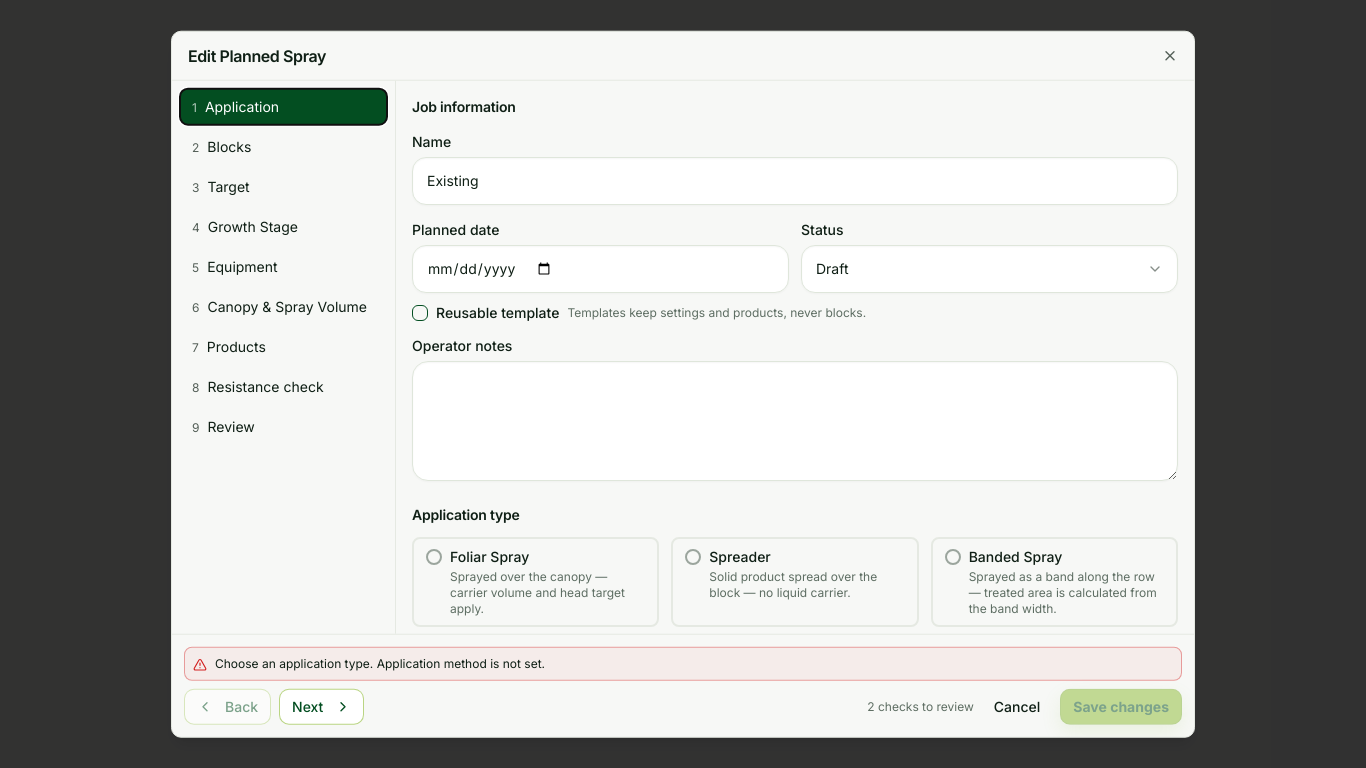
it: Stage 3B wizard shell › renders linked spray records on Review for an existing job
Check: the field showing "Existing" is shown, box [412,157,1178,205]
Click the button "9Review" at (284, 427), box [180,409,387,445]
(page scrolled)
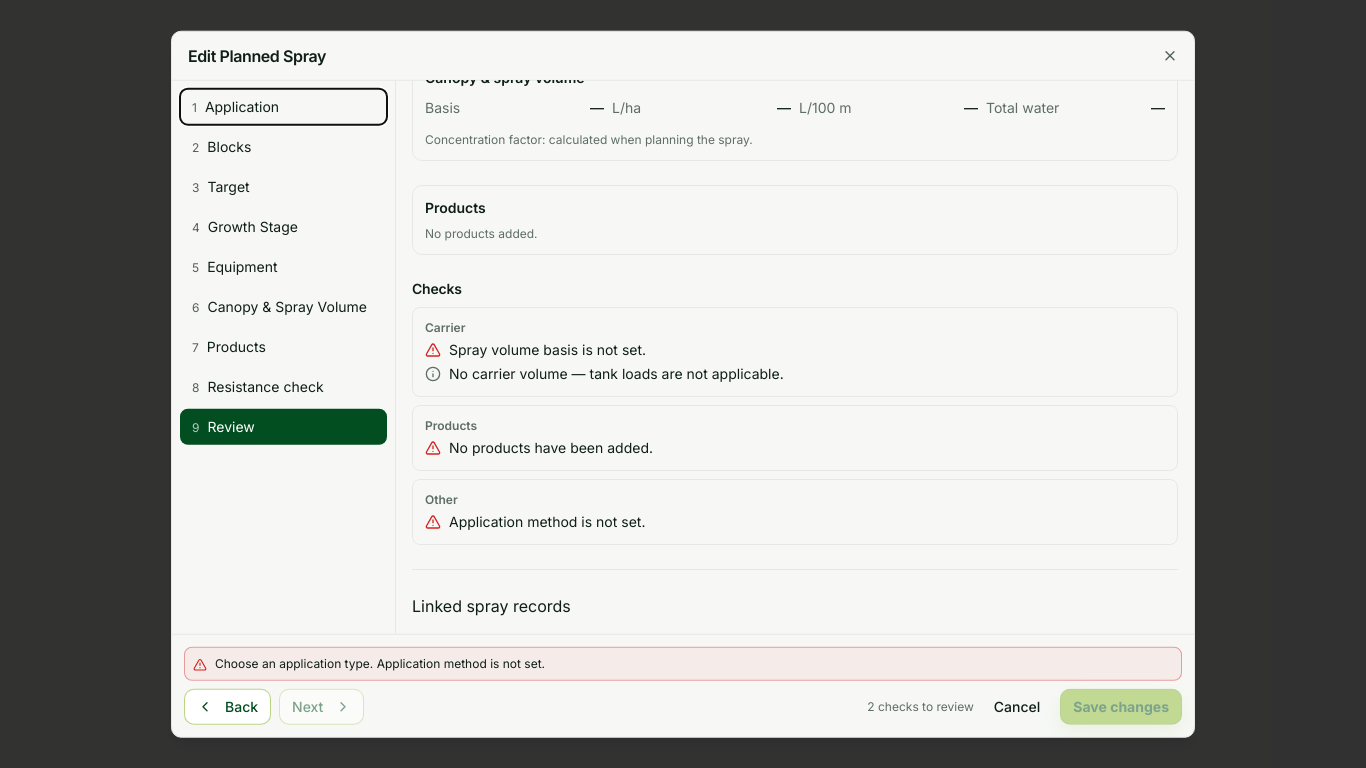
Check: the text "Linked spray records" is shown, box [412,596,571,616]
